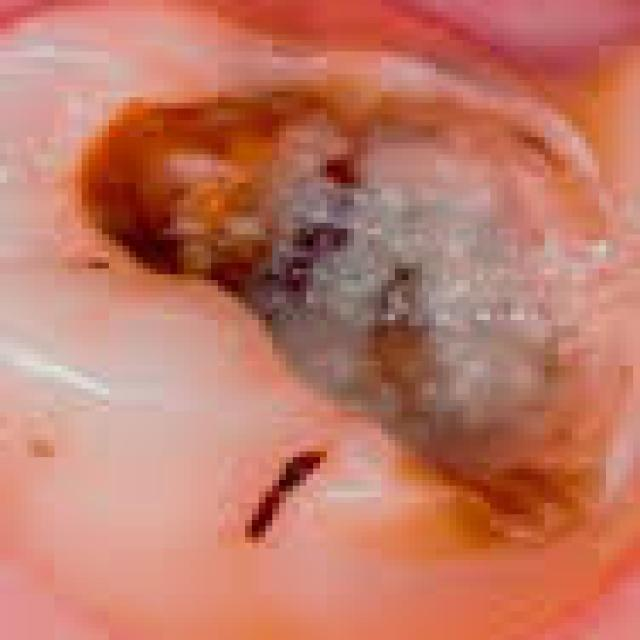Carrier: (67, 52, 633, 548)
